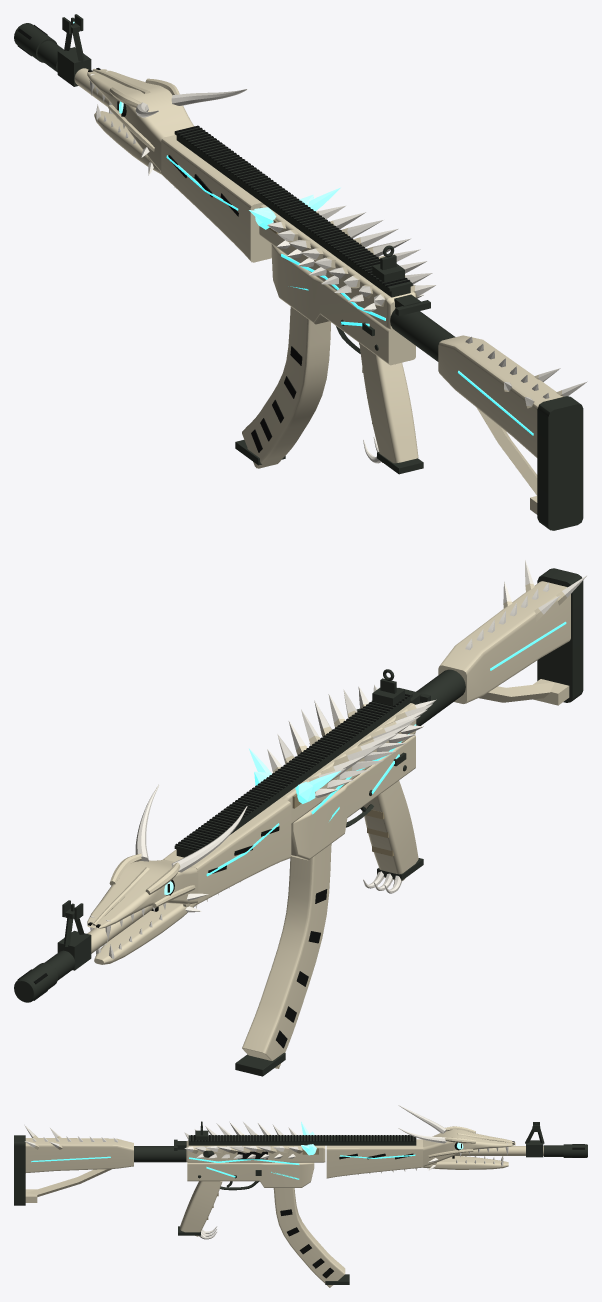
File: beast.glb
The picture shows the model from 3 angles, top to bottom: view 1: azimuth 30°, elevation 25°; view 2: azimuth 150°, elevation 25°; view 3: azimuth 270°, elevation 25°; orthographic projection. The views are drawn at different scales.
Parts seen in each view (by area): view 1: BE_Body, BE_Mag, BE_Brake, BE_IronRear; view 2: BE_Body, BE_Mag, BE_Brake, BE_IronRear; view 3: BE_Body, BE_Mag, BE_Brake.
Boxes of the visible parts, box(x1,y1,x2,y2) form: BE_Body: box(37, 14, 587, 530); BE_Mag: box(235, 307, 330, 468); BE_Brake: box(14, 23, 57, 62); BE_IronRear: box(372, 245, 404, 282); BE_Body: box(45, 560, 587, 980); BE_Mag: box(235, 844, 331, 1076); BE_Brake: box(14, 962, 57, 1002); BE_IronRear: box(372, 669, 404, 706); BE_Body: box(14, 1105, 563, 1239); BE_Mag: box(273, 1188, 349, 1287); BE_Brake: box(563, 1144, 587, 1157).
Size of the model in its own units: 0.104 by 0.3214 by 0.99.
